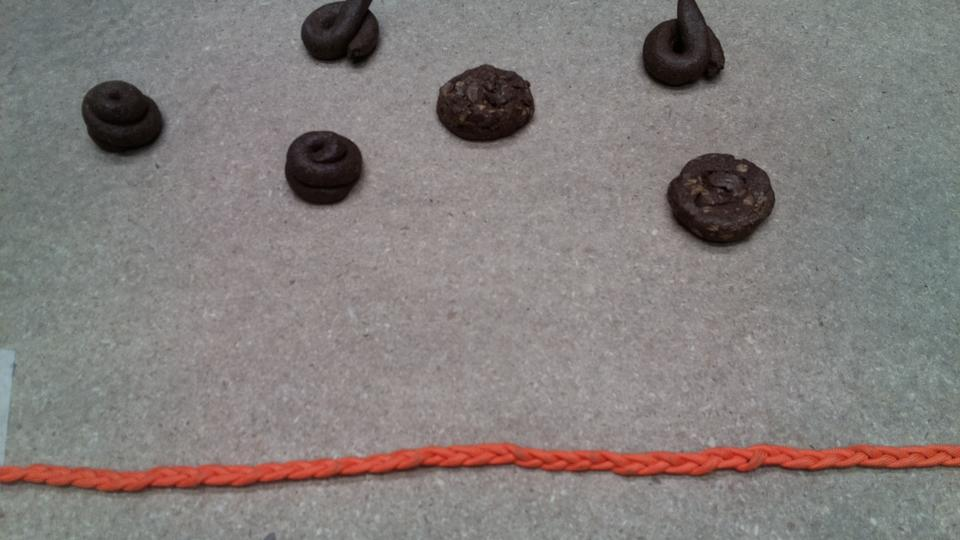poop: (668, 148, 778, 256), (434, 58, 545, 150), (75, 76, 176, 165), (643, 1, 727, 98), (284, 124, 369, 210), (302, 1, 388, 71)
rope: (499, 428, 960, 490), (2, 444, 537, 492)
